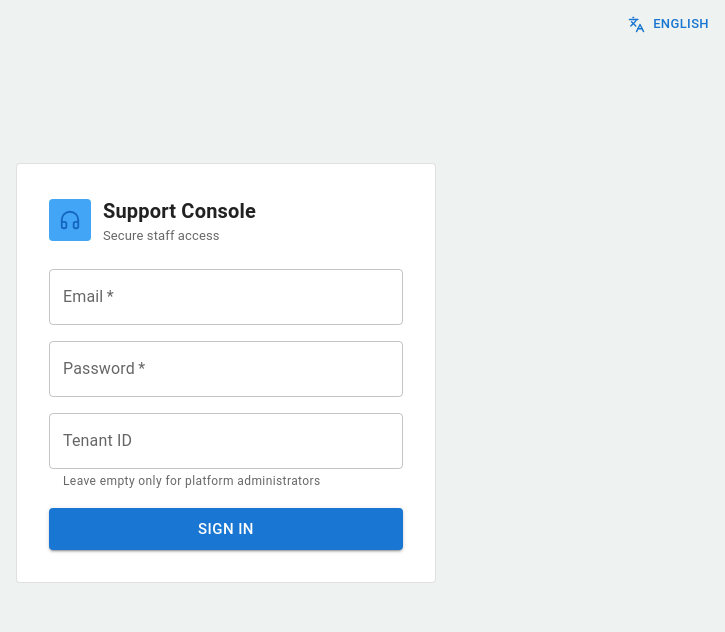
Test case: LoginPage › renders an accessible error and re-enables submission after login fails
The width and height of the screenshot is (725, 632).
Type "agent@example.test" into the field labelled "Email" at (226, 297), box [49, 269, 403, 325]
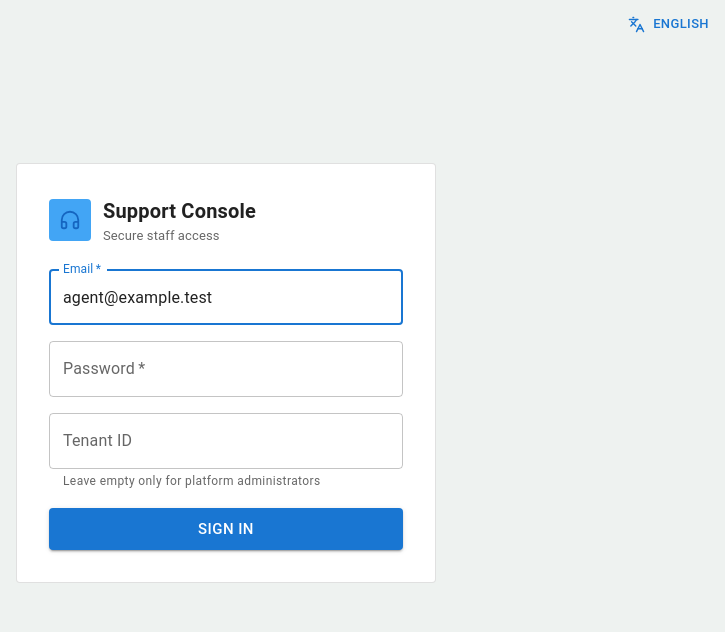
Type "wrong-password" into the password field labelled "Password *" at (226, 369), box [49, 341, 403, 397]
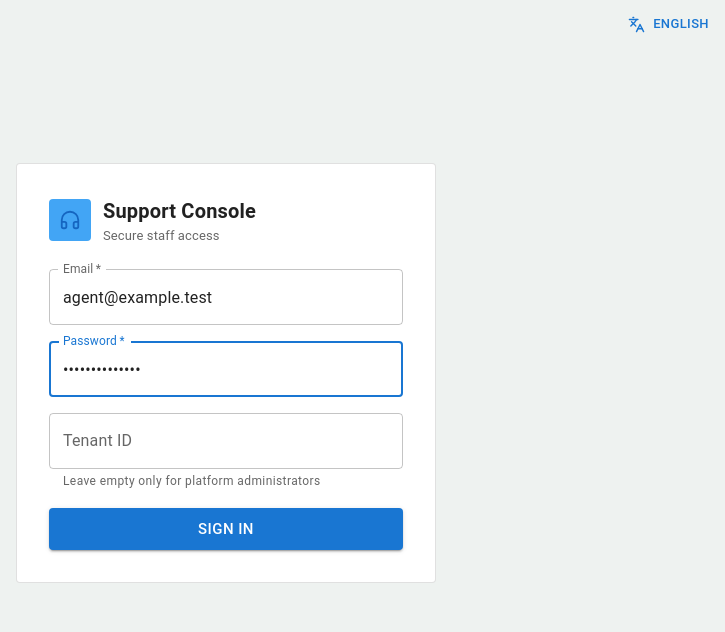
Click the button "Sign in" at (226, 529), box [49, 508, 403, 550]
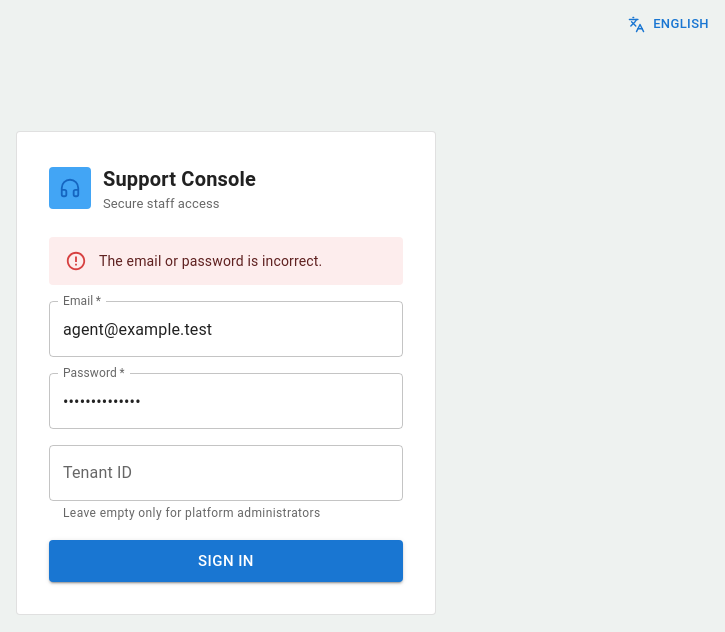
Expected: the button "Sign in" is enabled, [49, 540, 403, 582]
Now the message reads "The email or password is incorrect.", box [99, 253, 322, 269]
